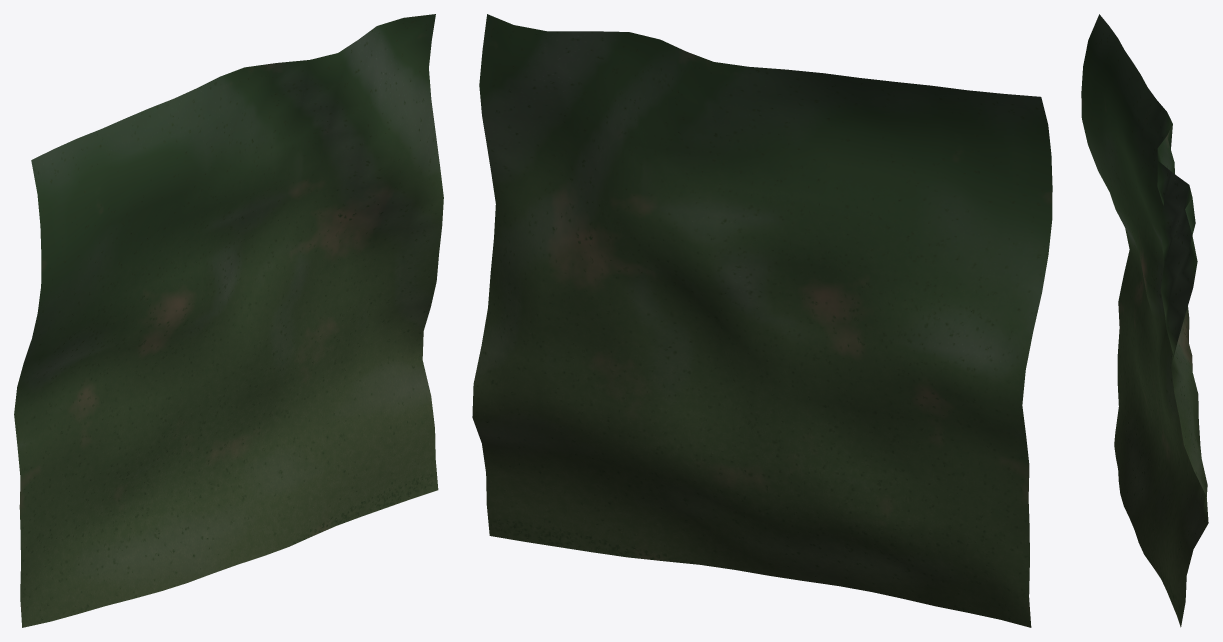
Rendered from terrain_far_02_05.obj.
3 renders of one model, left to right at view 1: azimuth 30°, elevation 25°; view 2: azimuth 150°, elevation 25°; view 3: azimuth 270°, elevation 25°, orthographic. The views are drawn at different scales.
Parts seen in each view (by area): view 1: terrain_far_02_05; view 2: terrain_far_02_05; view 3: terrain_far_02_05.
Boxes of the visible parts, x1=… form: terrain_far_02_05: x1=14, y1=14, x2=443, y2=627; terrain_far_02_05: x1=472, y1=14, x2=1052, y2=627; terrain_far_02_05: x1=1081, y1=14, x2=1208, y2=627.
Size of the model in its own units: 640 by 640 by 176.
Materials: 1 (1 with a texture image).
